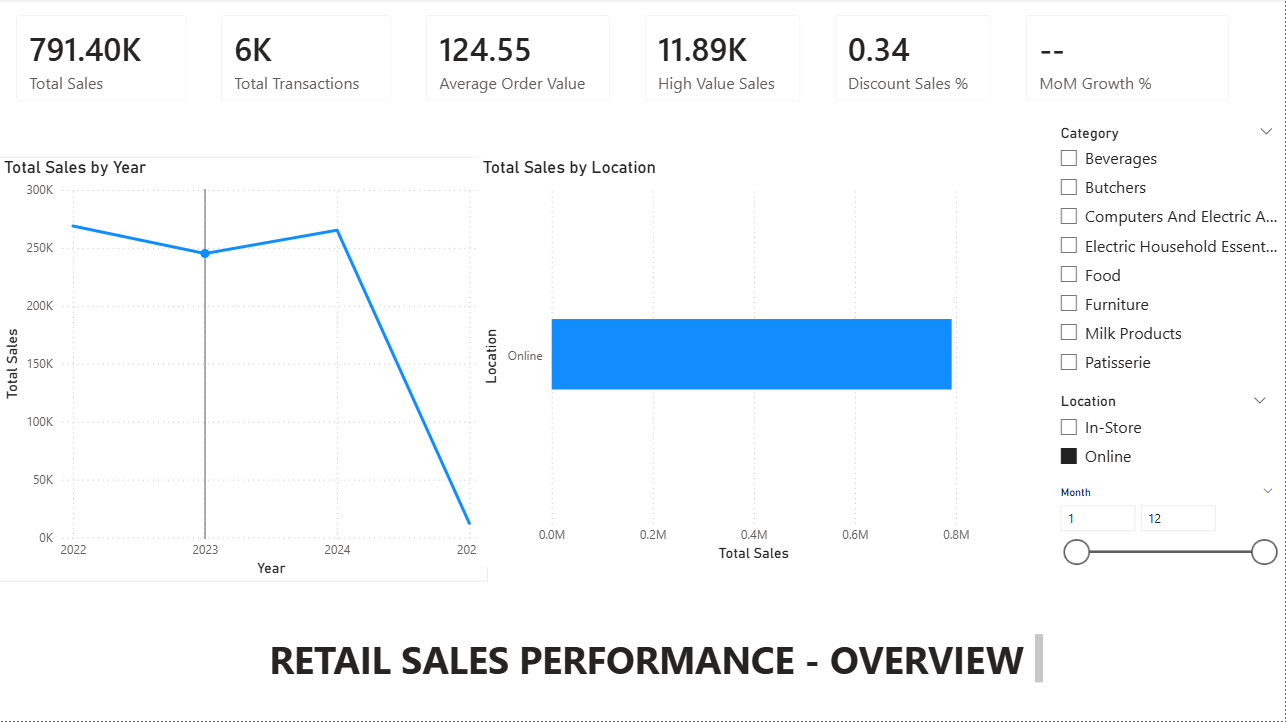

This screenshot's page, from the dashboard's own definition file:
{"tool":"powerbi","page":{"name":"Retail Sales Performance - Overview","canvas":[1280,720],"ordinal":0},"visuals":[{"type":"cardVisual","fields":{"Data":["_Measures.Total Sales"]},"box":[0,0,204,120.7],"z":0},{"type":"cardVisual","fields":{"Data":["_Measures.Total Transactions"]},"box":[204,0,204,120.7],"z":1000},{"type":"cardVisual","fields":{"Data":["_Measures.Average Order Value"]},"box":[408,0,217.7,120.7],"z":2000},{"type":"slicer","fields":{"Values":["dim_location.Location"]},"box":[1043.7,388.1,230.1,92.1],"z":3000},{"type":"cardVisual","fields":{"Data":["_Measures.Discount Sales %"]},"box":[814.8,0,190.3,120.7],"z":4000},{"type":"cardVisual","fields":{"Data":["_Measures.High Value Sales"]},"box":[625.7,0,189.1,120.7],"z":5000},{"type":"slicer","fields":{"Values":["dim_product.Category"]},"box":[1043.7,120.7,236.4,267.5],"z":6000},{"type":"slicer","fields":{"Values":["dim_date.Month"]},"box":[1043.7,480.2,236.4,98.3],"z":7000},{"type":"lineChart","fields":{"Category":["dim_date.Date.Variation.Date Hierarchy.Year","dim_date.Date.Variation.Date Hierarchy.Quarter","dim_date.Date.Variation.Date Hierarchy.Month","dim_date.Date.Variation.Date Hierarchy.Day"],"Y":["_Measures.Total Sales"]},"box":[0,158,486.4,422.9],"z":8000},{"type":"clusteredBarChart","fields":{"Category":["dim_location.Location"],"Y":["_Measures.Total Sales"]},"box":[476.4,158,495.1,408],"z":9000},{"type":"textbox","box":[263.7,628.2,780,58.5],"z":10000},{"type":"cardVisual","fields":{"Data":["_Measures.MoM Growth %"]},"box":[1005.1,0,236.4,120.7],"z":11000}]}

Visuals, with their boxes in screenshot pixels (x1, y1, x2, y2), scaled from the page's 1280x720 canvas onto the 1286x722 screenshot:
cardVisual - _Measures.Total Sales: 0, 0, 205, 121
cardVisual - _Measures.Total Transactions: 205, 0, 410, 121
cardVisual - _Measures.Average Order Value: 410, 0, 629, 121
slicer - dim_location.Location: 1049, 389, 1280, 482
cardVisual - _Measures.Discount Sales %: 819, 0, 1010, 121
cardVisual - _Measures.High Value Sales: 629, 0, 819, 121
slicer - dim_product.Category: 1049, 121, 1285, 389
slicer - dim_date.Month: 1049, 482, 1285, 580
lineChart - dim_date.Date.Variation.Date Hierarchy.Year x dim_date.Date.Variation.Date Hierarchy.Quarter: 0, 158, 489, 583
clusteredBarChart - dim_location.Location x _Measures.Total Sales: 479, 158, 976, 568
textbox: 265, 630, 1049, 689
cardVisual - _Measures.MoM Growth %: 1010, 0, 1247, 121
